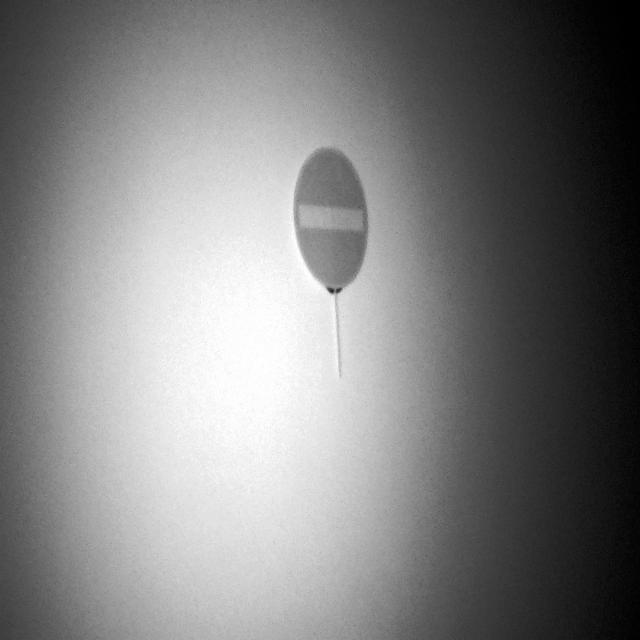Sign: (292, 142, 370, 292)
